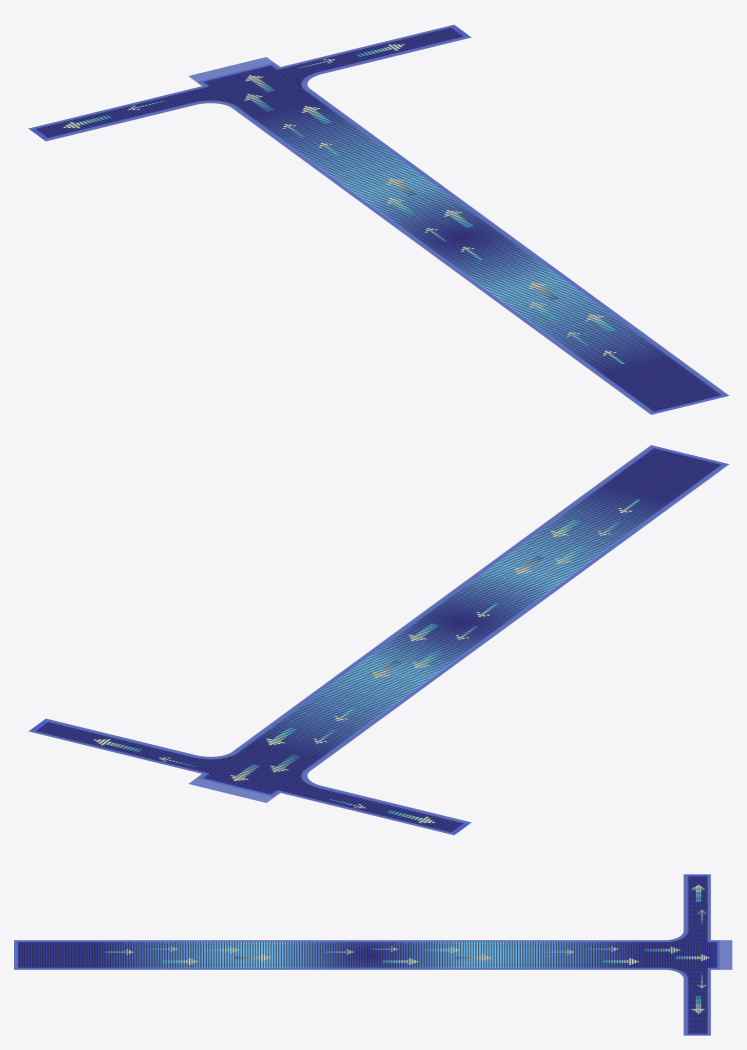
The model's file is way.glb.
3 views of the same model, one above another, from view 1: azimuth 30°, elevation 25°; view 2: azimuth 150°, elevation 25°; view 3: azimuth 270°, elevation 25° (orthographic). The views are drawn at different scales.
Visible parts, largest first — view 1: Way; view 2: Way; view 3: Way.
Boxes of the visible parts, x1,y1,x2,y2 form: Way: (28,24,729,414); Way: (28,445,729,835); Way: (14,874,732,1035).
Size of the model in its own units: 44.97 by 0 by 84.72.
1 material, 1 textured.
